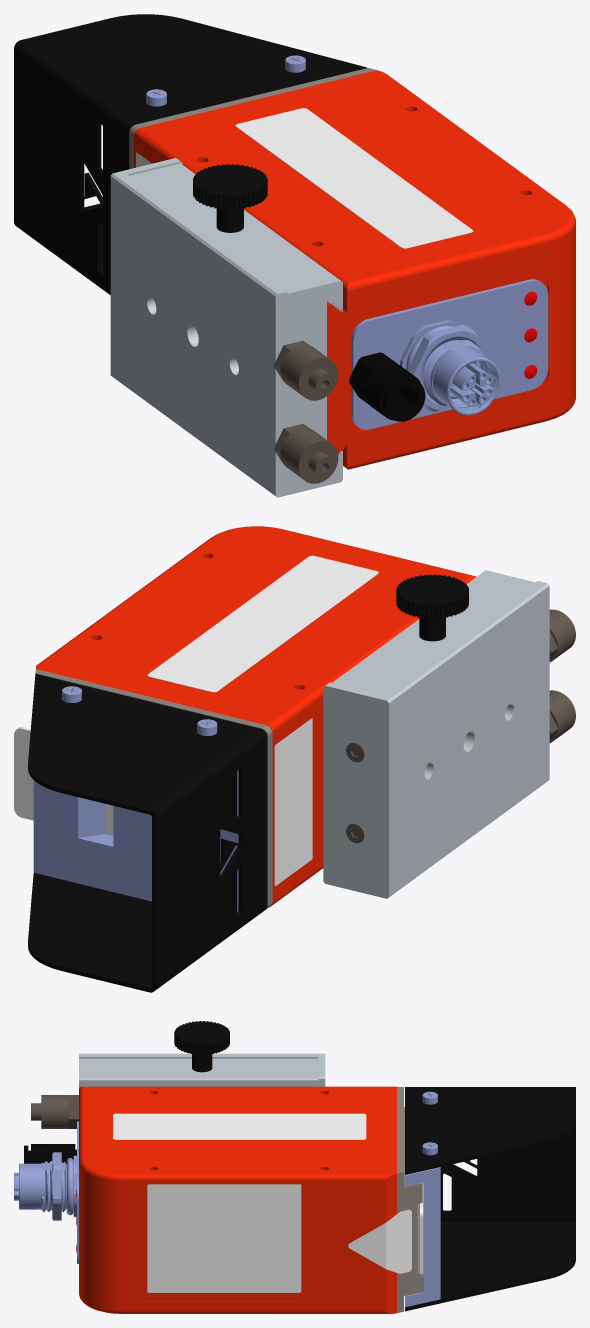
File: garmo_garline_visual.obj
3 views of the same model, one above another, from view 1: azimuth 30°, elevation 25°; view 2: azimuth 150°, elevation 25°; view 3: azimuth 270°, elevation 25° (orthographic). The views are drawn at different scales.
Parts seen in each view (by area): view 1: Sensor_Body_mat_8, Water_Cooling_Mounting_Plate_Base_mat_1, Spatter_shield_mat_3, Adhesivo_Logo_Garmo001_mat_7, Etiqueta_LED_mat_2, Water_Cooling_Mounting_Plate_Side_mat_1, BUCHSE-CAT6A_mat_2, M5_6mm_OD_Pipe_Air_Connector_mat_12, 31-00203_-_Tornillo_moleteado_M4_D16_L16_-_V1_mat_3, 31-00204_-_Rectus_Water_Connector_06_M5_-_V002_mat_4, 31-00204_-_Rectus_Water_Connector_06_M5_-_V1_mat_4, BUCHSE-CAT6A001_mat_2 (+2 smaller); view 2: Spatter_shield_mat_3, Sensor_Body_mat_8, Water_Cooling_Mounting_Plate_Base_mat_1, Water_Cooling_Mounting_Plate_End_mat_0, Adhesivo_Logo_Garmo001_mat_7, Front_protector_mat_2, Water_Cooling_Mounting_Plate_Side_mat_1, Etiqueta_frase_de_advertencia_-_2_mat_7, 31-00203_-_Tornillo_moleteado_M4_D16_L16_-_V1_mat_3, Window_holder_mat_5, Disposable_Window_mat_7, 31-00204_-_Rectus_Water_Connector_06_M5_-_V1_mat_4 (+1 smaller); view 3: Sensor_Body_mat_8, Spatter_shield_mat_3, Etiqueta_superior_mat_7, Adhesivo_Logo_Garmo001_mat_7, Water_Cooling_Mounting_Plate_Side_mat_1, Front_protector_mat_2, BUCHSE-CAT6A_mat_2, Window_holder_mat_5, Etiqueta_de_advertencia_mat_7, 31-00203_-_Tornillo_moleteado_M4_D16_L16_-_V1_mat_3, 31-00204_-_Rectus_Water_Connector_06_M5_-_V1_mat_4, Water_Cooling_Mounting_Plate_Base_mat_1 (+2 smaller).
Part boxes in pixels (left/top/right/bottom): Sensor_Body_mat_8: left=134, top=70, right=575, bottom=469; Water_Cooling_Mounting_Plate_Base_mat_1: left=115, top=174, right=342, bottom=497; Spatter_shield_mat_3: left=14, top=14, right=366, bottom=294; Adhesivo_Logo_Garmo001_mat_7: left=235, top=108, right=473, bottom=248; Etiqueta_LED_mat_2: left=351, top=279, right=548, bottom=429; Water_Cooling_Mounting_Plate_Side_mat_1: left=129, top=163, right=342, bottom=311; BUCHSE-CAT6A_mat_2: left=400, top=320, right=500, bottom=415; M5_6mm_OD_Pipe_Air_Connector_mat_12: left=349, top=352, right=425, bottom=421; 31-00203_-_Tornillo_moleteado_M4_D16_L16_-_V1_mat_3: left=193, top=164, right=267, bottom=232; 31-00204_-_Rectus_Water_Connector_06_M5_-_V002_mat_4: left=273, top=423, right=338, bottom=483; 31-00204_-_Rectus_Water_Connector_06_M5_-_V1_mat_4: left=273, top=340, right=338, bottom=400; BUCHSE-CAT6A001_mat_2: left=407, top=324, right=490, bottom=411; Spatter_shield_mat_3: left=28, top=674, right=267, bottom=992; Sensor_Body_mat_8: left=36, top=526, right=476, bottom=906; Water_Cooling_Mounting_Plate_Base_mat_1: left=382, top=581, right=549, bottom=893; Water_Cooling_Mounting_Plate_End_mat_0: left=323, top=682, right=393, bottom=898; Adhesivo_Logo_Garmo001_mat_7: left=147, top=555, right=378, bottom=692; Front_protector_mat_2: left=33, top=770, right=238, bottom=912; Water_Cooling_Mounting_Plate_Side_mat_1: left=332, top=570, right=535, bottom=694; Etiqueta_frase_de_advertencia_-_2_mat_7: left=274, top=718, right=312, bottom=886; 31-00203_-_Tornillo_moleteado_M4_D16_L16_-_V1_mat_3: left=396, top=574, right=468, bottom=641; Window_holder_mat_5: left=35, top=669, right=272, bottom=908; Disposable_Window_mat_7: left=14, top=727, right=113, bottom=835; 31-00204_-_Rectus_Water_Connector_06_M5_-_V1_mat_4: left=549, top=609, right=575, bottom=662; Sensor_Body_mat_8: left=79, top=1086, right=396, bottom=1313; Spatter_shield_mat_3: left=405, top=1087, right=575, bottom=1311; Etiqueta_superior_mat_7: left=147, top=1184, right=301, bottom=1292; Adhesivo_Logo_Garmo001_mat_7: left=113, top=1113, right=366, bottom=1139; Water_Cooling_Mounting_Plate_Side_mat_1: left=79, top=1058, right=318, bottom=1087; Front_protector_mat_2: left=405, top=1167, right=440, bottom=1307; BUCHSE-CAT6A_mat_2: left=14, top=1155, right=76, bottom=1217; Window_holder_mat_5: left=397, top=1087, right=422, bottom=1312; Etiqueta_de_advertencia_mat_7: left=348, top=1209, right=411, bottom=1273; 31-00203_-_Tornillo_moleteado_M4_D16_L16_-_V1_mat_3: left=174, top=1021, right=229, bottom=1072; 31-00204_-_Rectus_Water_Connector_06_M5_-_V1_mat_4: left=31, top=1095, right=78, bottom=1128; Water_Cooling_Mounting_Plate_Base_mat_1: left=79, top=1053, right=318, bottom=1058.
Bounding box in the file's own units: 0.0819 × 0.06 × 0.1642.
